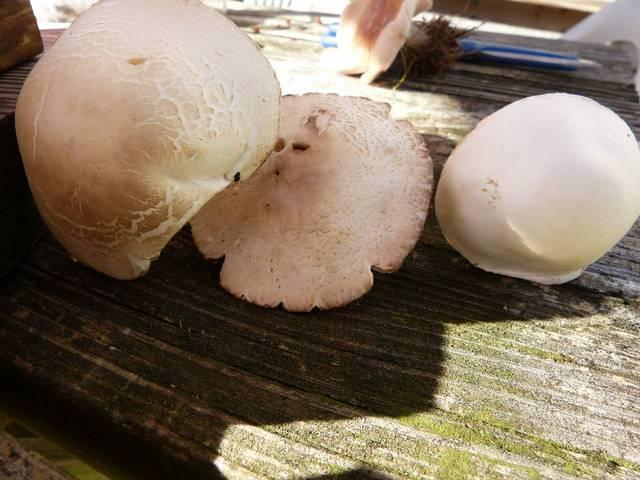Non-edible Mushroom: (13, 0, 282, 280), (189, 90, 434, 313), (433, 90, 639, 285)
